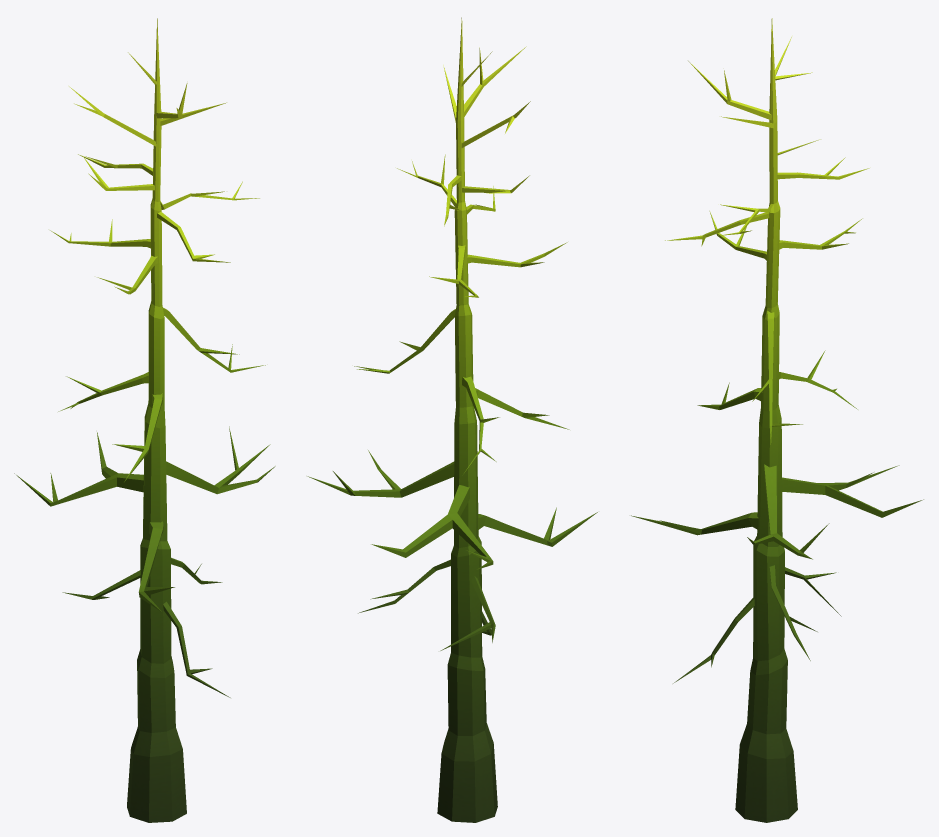
Rendered from Tree2.fbx.
3 renders of one model, left to right at view 1: azimuth 30°, elevation 25°; view 2: azimuth 150°, elevation 25°; view 3: azimuth 270°, elevation 25°, orthographic.
Visible parts, largest first — view 1: Cylinder.008; view 2: Cylinder.008; view 3: Cylinder.008.
Boxes of the visible parts, left/top/right/bottom form: Cylinder.008: left=14, top=18, right=275, bottom=822; Cylinder.008: left=307, top=17, right=597, bottom=822; Cylinder.008: left=631, top=18, right=923, bottom=822.
Size of the model in its own units: 7.68 by 27.15 by 9.15.
